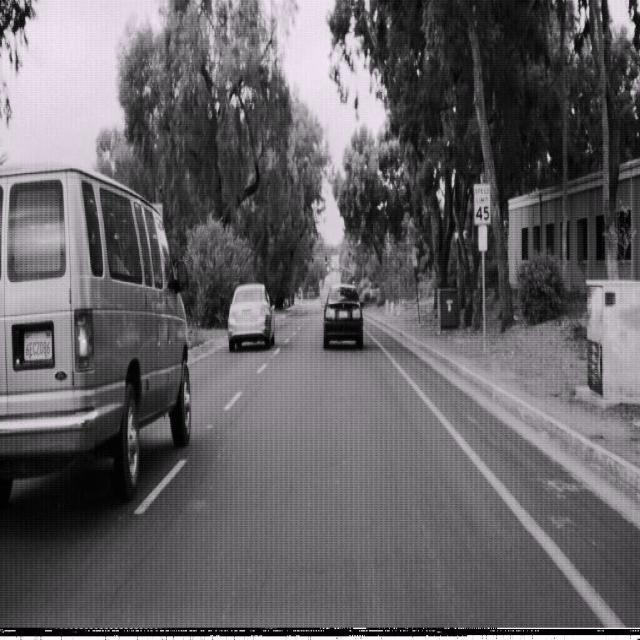speedLimit45: (473, 182, 491, 224)
